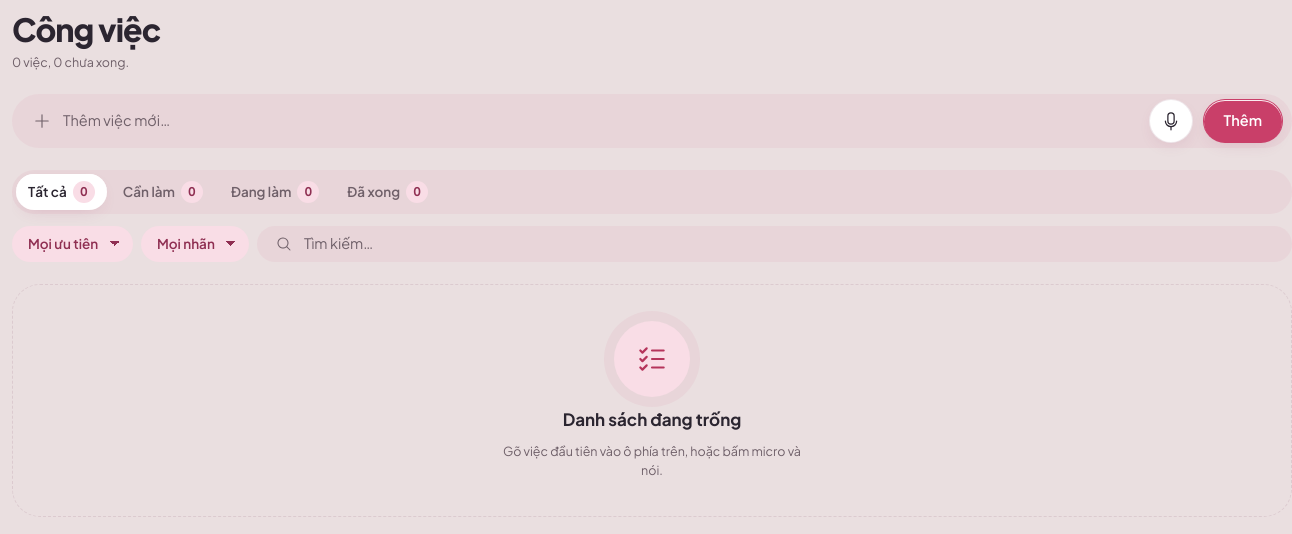
Scenario: TasksPage voice input › voice text fills the input without creating a task
The width and height of the screenshot is (1292, 534).
Click the button named "Nhập bằng giọng nói": [1171, 121] box [1149,99,1193,143]
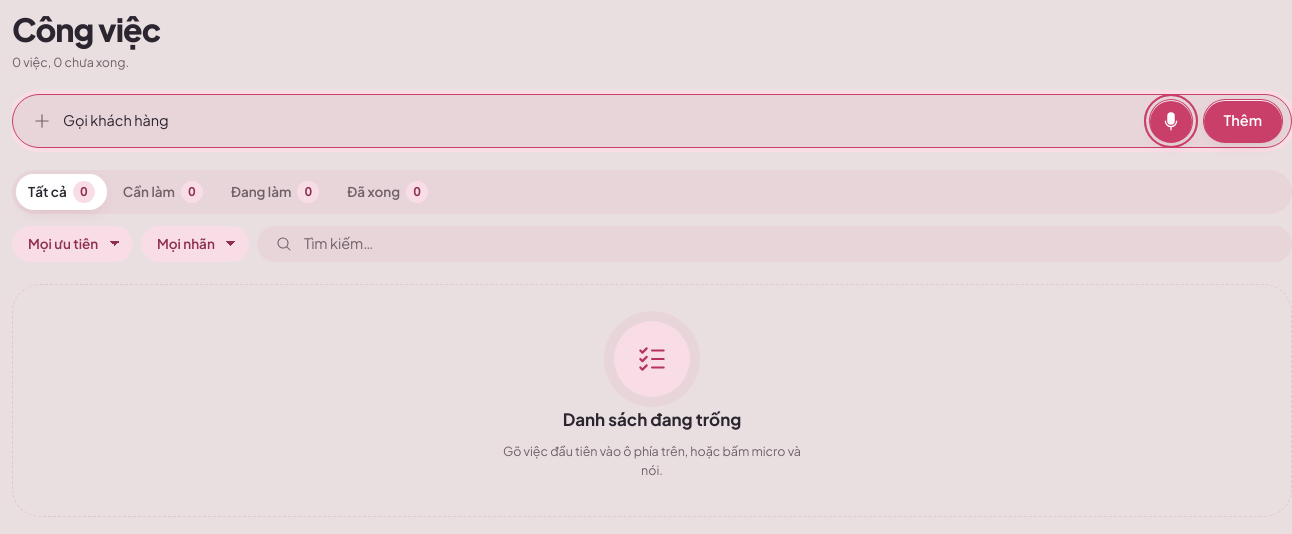
Result: the field with placeholder "Thêm việc mới…" holds "Gọi khách hàng" at [61,109,1139,133]
